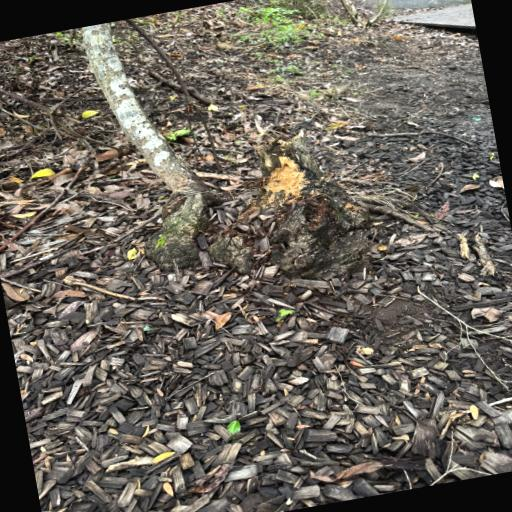tree root: (82, 22, 368, 275)
